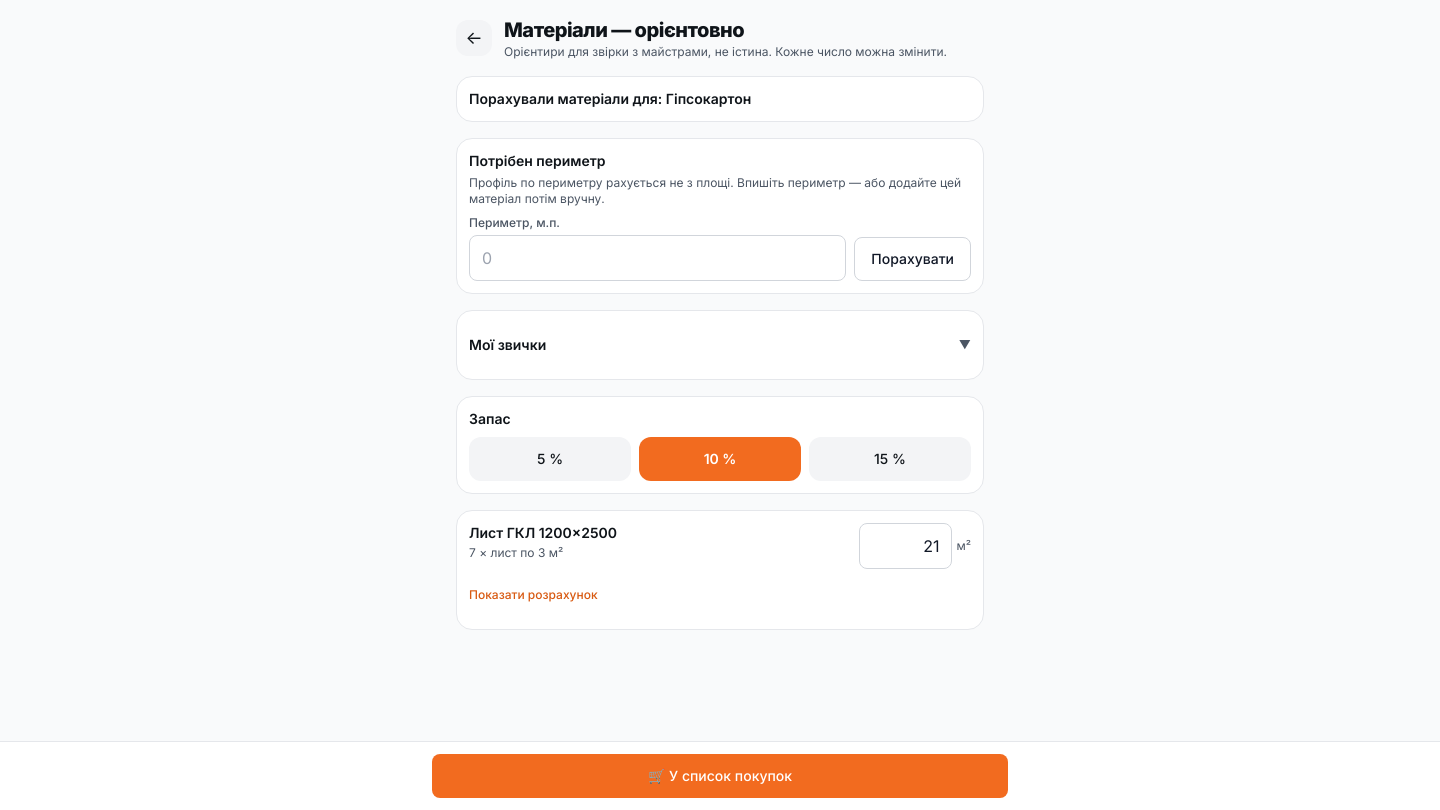
Test case: MaterialCalculatorPage › keeps the fields on screen when the server refuses the figure
The image size is (1440, 810).
Expected: the text "Потрібен периметр" is shown, [469,152,606,169]
Step 1. Type "16" into the field labelled "Периметр, м.п." → [658, 258], box [469,235,846,281]
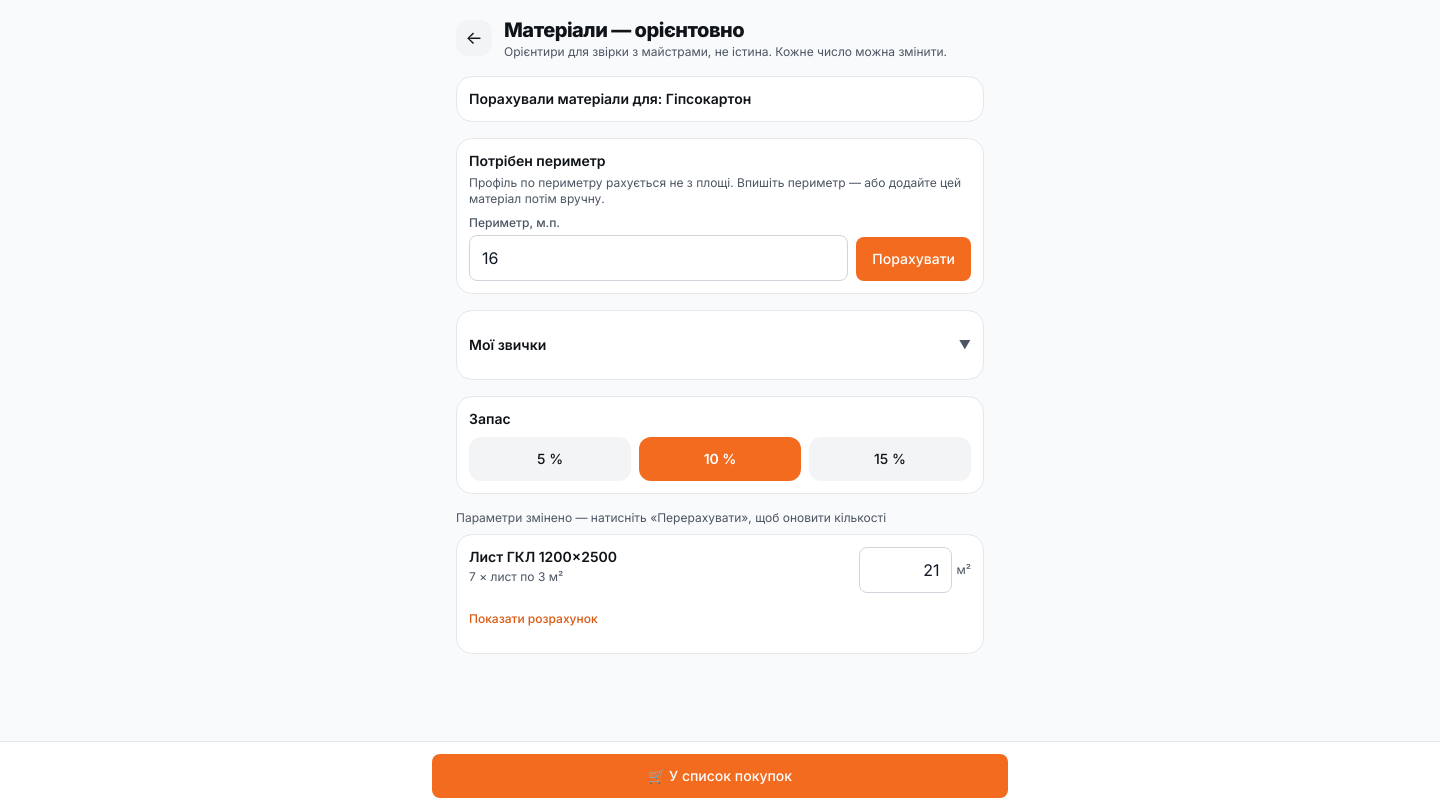
Step 2. Click the button "Порахувати" → [914, 259], box [856,237,971,281]
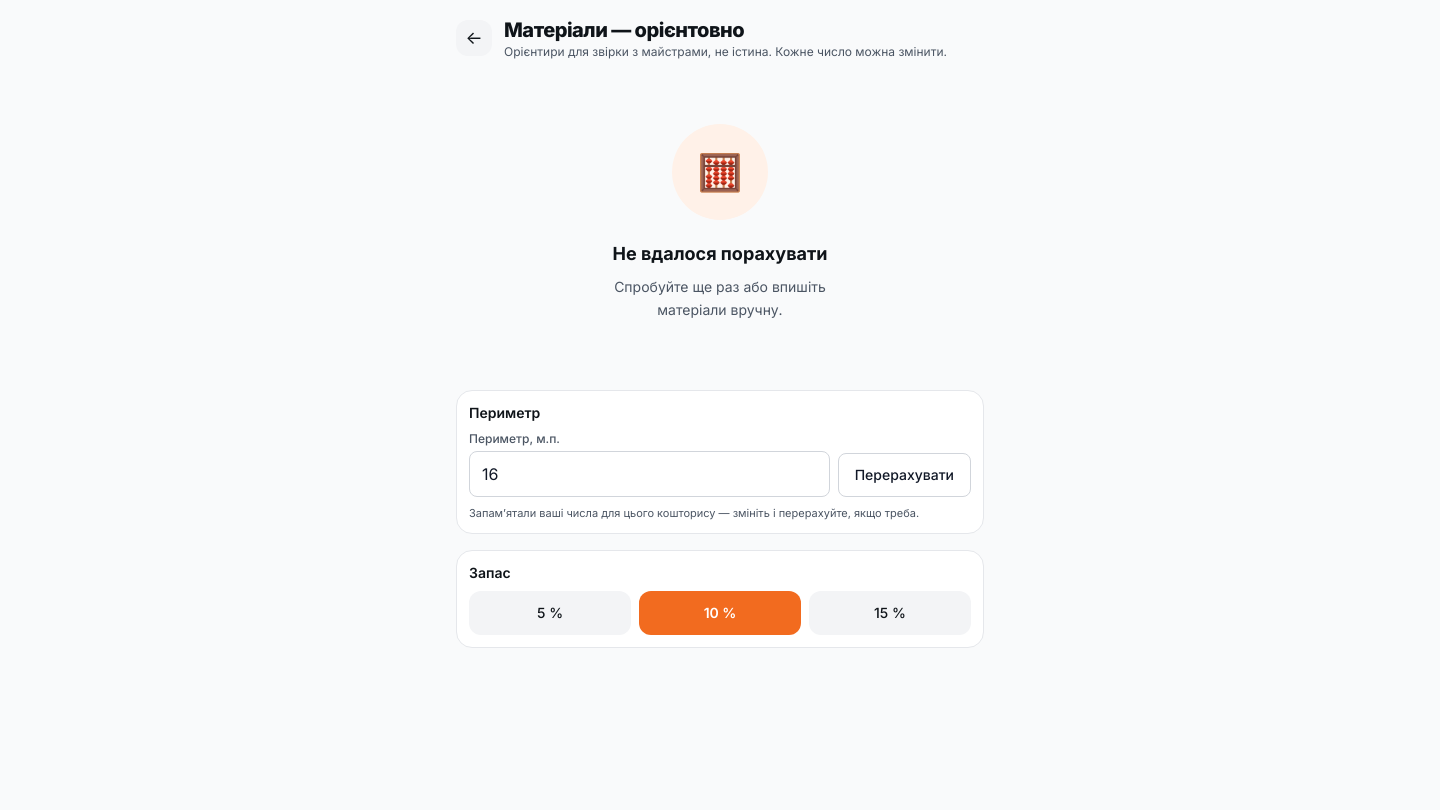
Expected: the text "Запас" is shown, [469,564,511,581]
Expected: the heading "Не вдалося порахувати" is shown, [612,240,828,268]
